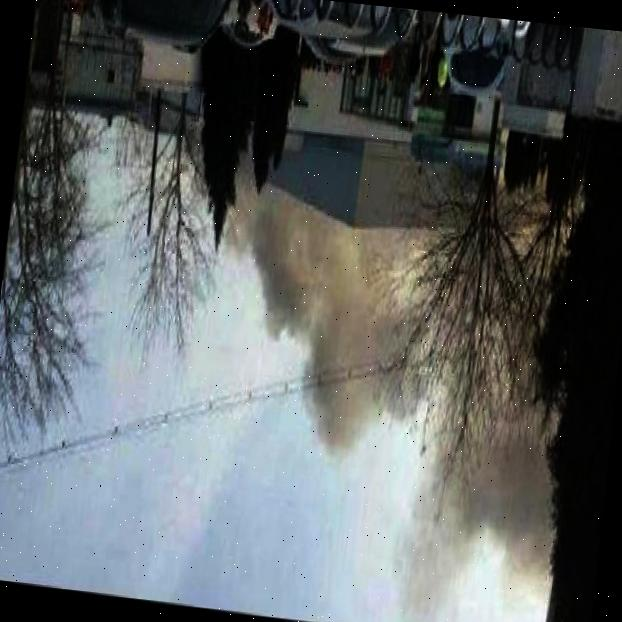smoke: (251, 300, 410, 444), (204, 184, 316, 307), (396, 471, 472, 622), (464, 450, 553, 575), (306, 218, 419, 315)
